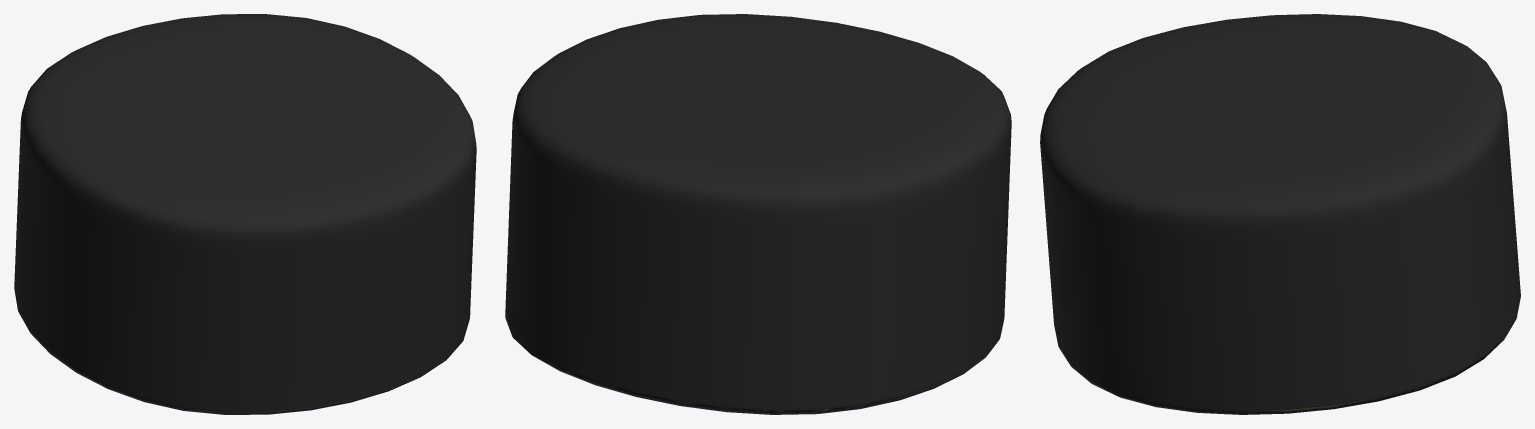
Rendered from wheel.gltf.
3 renders of one model, left to right at view 1: azimuth 30°, elevation 25°; view 2: azimuth 150°, elevation 25°; view 3: azimuth 270°, elevation 25°, orthographic. The views are drawn at different scales.
Visible parts, largest first — view 1: Chevrolet.Wheel.Bk.L; view 2: Chevrolet.Wheel.Bk.L; view 3: Chevrolet.Wheel.Bk.L.
Boxes of the visible parts, x1,y1,x2,y2 form: Chevrolet.Wheel.Bk.L: [14, 14, 476, 414]; Chevrolet.Wheel.Bk.L: [505, 14, 1011, 414]; Chevrolet.Wheel.Bk.L: [1040, 14, 1520, 414].
Size of the model in its own units: 0.9078 by 0.5304 by 0.9326.
Materials: 1 (1 with a texture image).
